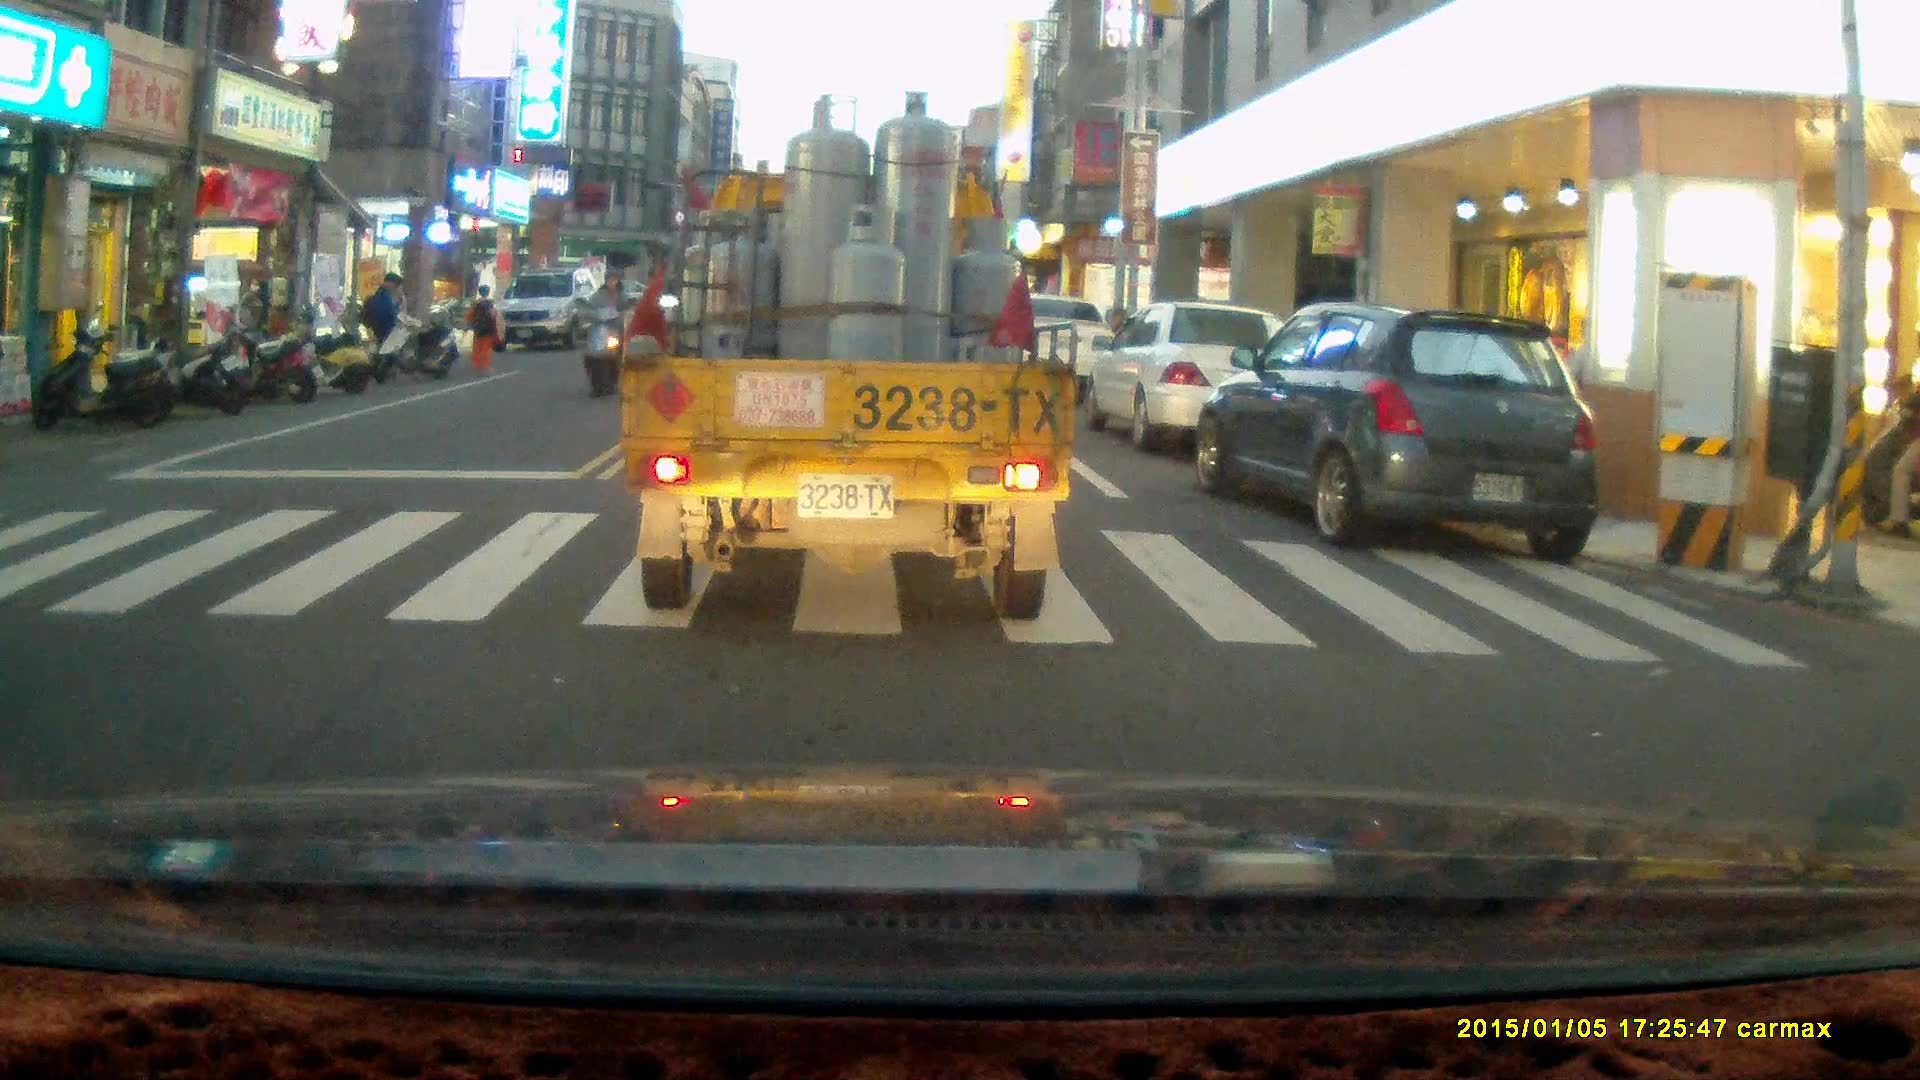pedestrian: (359, 271, 398, 378), (461, 280, 504, 374), (231, 273, 261, 372)
rider: (1854, 364, 1920, 545), (575, 265, 638, 395)
vehicle: (627, 96, 1076, 612), (1198, 299, 1603, 554), (1081, 304, 1320, 456), (985, 295, 1129, 415), (496, 266, 606, 352)
